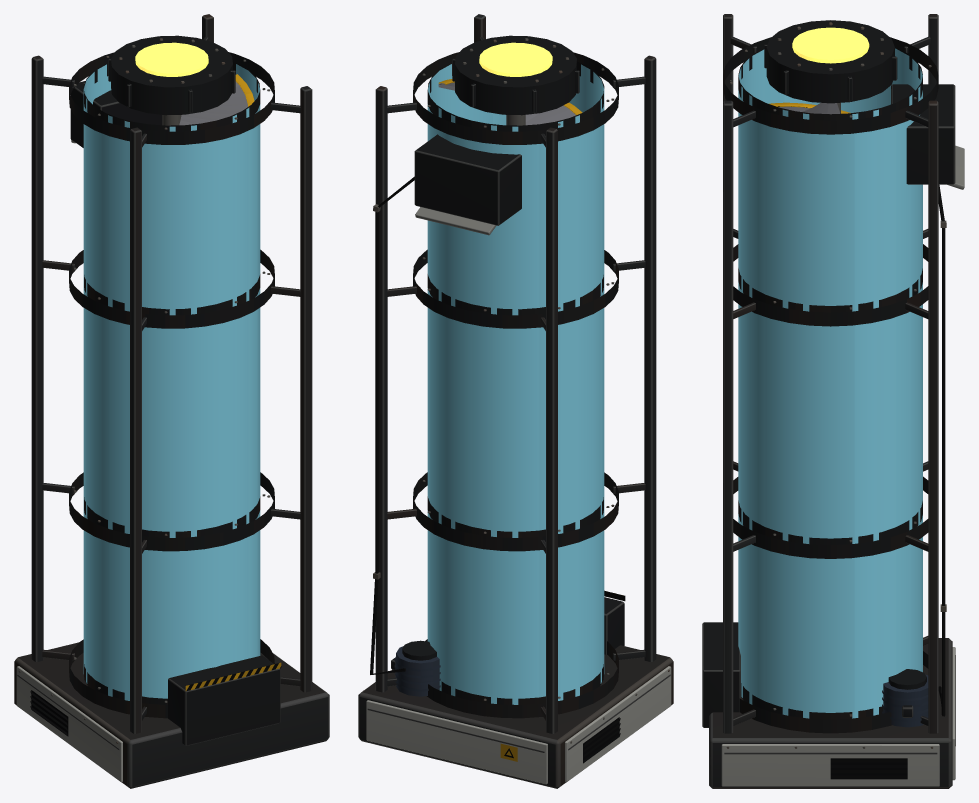
Rendered from concept_screw_elevator.glb.
3 renders of one model, left to right at view 1: azimuth 30°, elevation 25°; view 2: azimuth 150°, elevation 25°; view 3: azimuth 270°, elevation 25°, orthographic. The views are drawn at different scales.
Parts seen in each view (by area): view 1: Glass, Frame, Screw; view 2: Frame, Glass, Screw; view 3: Glass, Frame, Screw.
Part boxes in pixels (x1=…): Glass: x1=83, y1=64, x2=260, y2=700; Frame: x1=14, y1=14, x2=329, y2=788; Screw: x1=162, y1=74, x2=254, y2=125; Frame: x1=358, y1=14, x2=673, y2=788; Glass: x1=427, y1=64, x2=604, y2=704; Screw: x1=438, y1=79, x2=582, y2=125; Glass: x1=738, y1=48, x2=922, y2=718; Frame: x1=702, y1=14, x2=964, y2=788; Screw: x1=769, y1=102, x2=850, y2=114.
Size of the model in its own units: 1.97 by 5.98 by 2.05.
